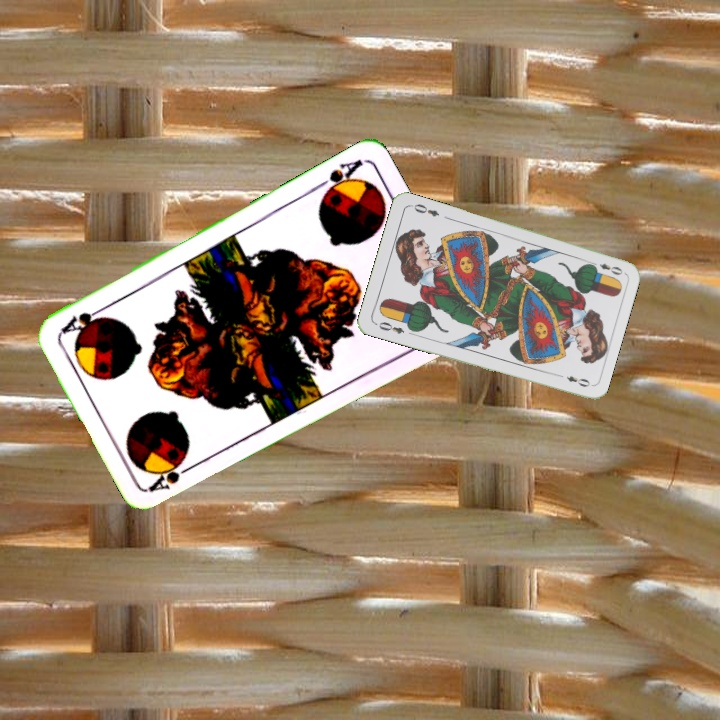EO: (586, 257, 625, 278), (371, 318, 407, 337)
SA: (311, 155, 365, 201), (145, 458, 201, 494)
